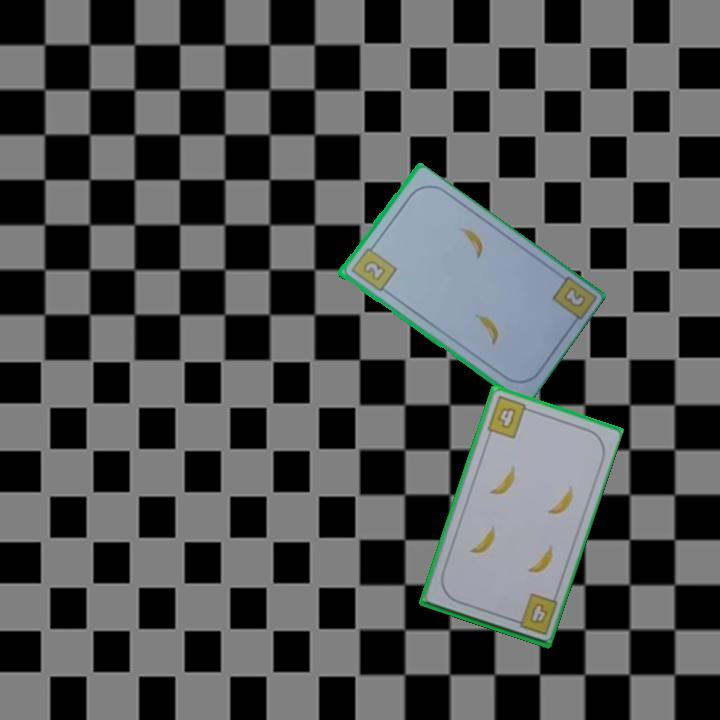2b: (347, 240, 399, 294), (562, 285, 586, 308)
4b: (483, 392, 535, 442), (507, 590, 560, 638)
